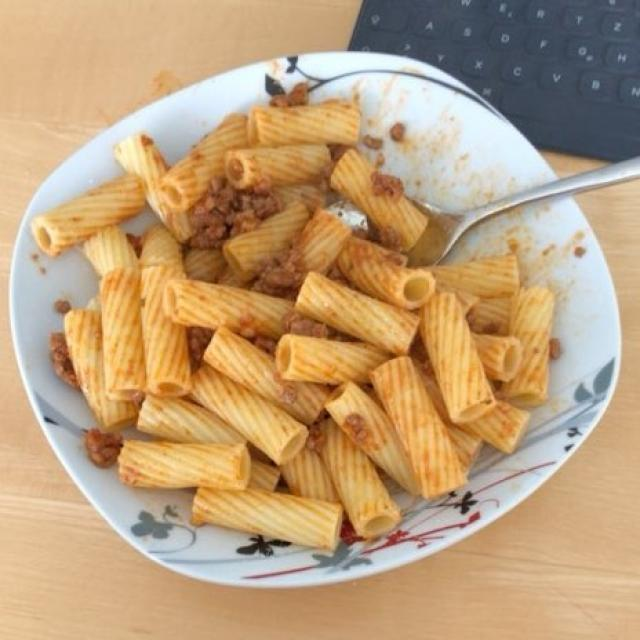bolognaise-sauce: (186, 180, 307, 292)
pasta: (30, 113, 554, 542)
